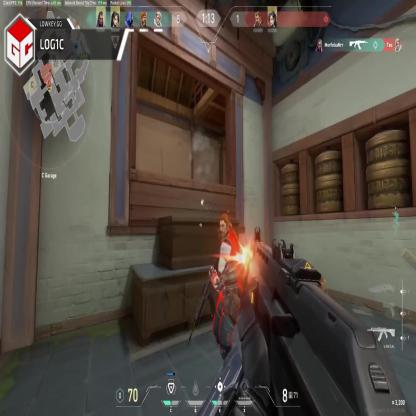enemy: (208, 211, 244, 384)
enemy_head: (218, 212, 232, 236)
